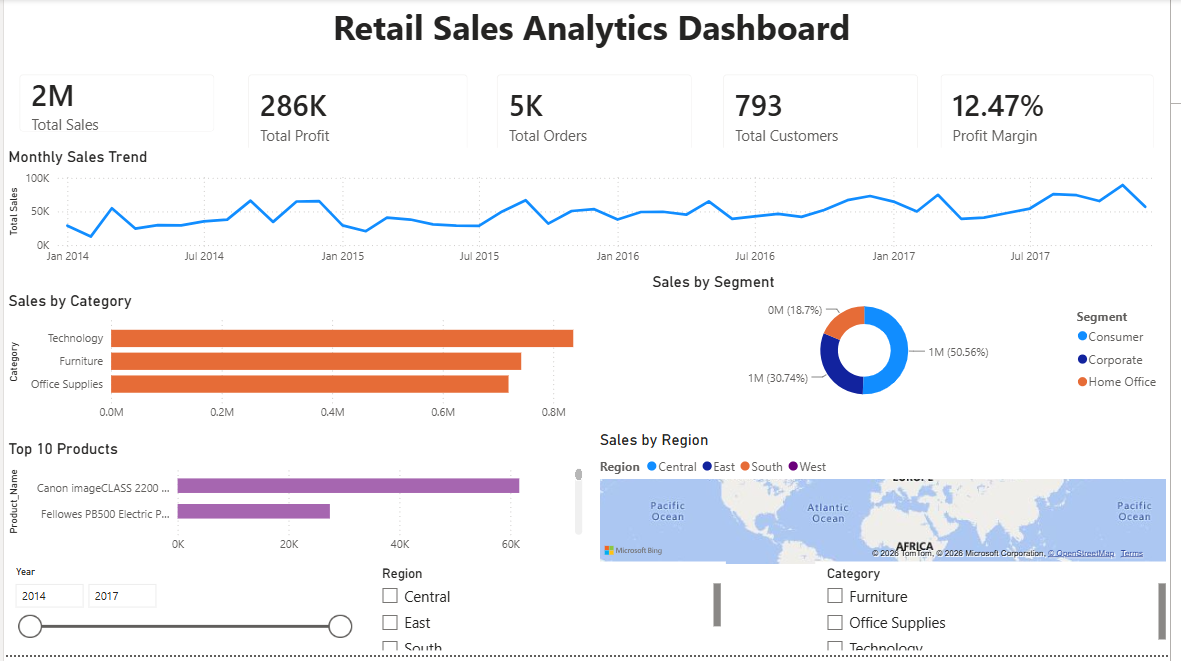

The dashboard page shown, as its layout file describes it:
{"tool":"powerbi","page":{"name":"Page 2","canvas":[1280,720],"ordinal":1},"visuals":[{"type":"cardVisual","fields":{"Data":["Sheet1.Total Sales"]},"box":[0,65.7,248.6,97.1],"z":0},{"type":"cardVisual","fields":{"Data":["Sheet1.Total Profit"]},"box":[251.4,65.7,275.7,120],"z":1000},{"type":"cardVisual","fields":{"Data":["Sheet1.Total Orders"]},"box":[524.3,65.7,248.6,120],"z":2000},{"type":"cardVisual","fields":{"Data":["Sheet1.Total Customers"]},"box":[772.9,65.7,248.6,120],"z":3000},{"type":"cardVisual","fields":{"Data":["Sheet1.Profit Margin"]},"box":[1011.4,65.7,268.6,120],"z":4000},{"type":"lineChart","title":"Monthly Sales Trend","fields":{"Y":["Sheet1.Total Sales"],"Category":["Sheet1.Order_Date.Variation.Date Hierarchy.Year","Sheet1.Order_Date.Variation.Date Hierarchy.Month"]},"box":[0,162.9,1280,137.1],"z":5000},{"type":"clusteredBarChart","title":"Sales by Category","fields":{"Category":["Sheet1.Category"],"Y":["Sheet1.Total Sales"]},"box":[0,321.4,682.9,151.4],"z":6000},{"type":"donutChart","title":"Sales by Segment","fields":{"Category":["Sheet1.Segment"],"Y":["Sheet1.Total Sales"]},"box":[707.1,300,572.9,151.4],"z":7000},{"type":"filledMap","title":"Sales by Region","fields":{"Series":["Sheet1.Region"]},"box":[648.6,472.9,631.4,151.4],"z":8000},{"type":"clusteredBarChart","title":"Top 10 Products","fields":{"Category":["Sheet1.Product_Name"],"Y":["Sheet1.Total Sales"]},"box":[0,482.9,640,134.3],"z":9000},{"type":"slicer","fields":{"Values":["Sheet1.Year"]},"box":[0,617.1,390,102.9],"z":10000},{"type":"slicer","fields":{"Values":["Sheet1.Region"]},"box":[401.4,617.1,390,102.9],"z":11000},{"type":"slicer","fields":{"Values":["Sheet1.Category"]},"box":[890,617.1,390,102.9],"z":12000},{"type":"textbox","box":[0,0,1280,75.7],"z":13000}]}

Visuals, with their boxes in screenshot pixels (x1, y1, x2, y2), scaled from the page's 1280x720 canvas onto the 1181x661 screenshot:
cardVisual - Sheet1.Total Sales: (left=0, top=60, right=229, bottom=149)
cardVisual - Sheet1.Total Profit: (left=232, top=60, right=486, bottom=170)
cardVisual - Sheet1.Total Orders: (left=484, top=60, right=713, bottom=170)
cardVisual - Sheet1.Total Customers: (left=713, top=60, right=942, bottom=170)
cardVisual - Sheet1.Profit Margin: (left=933, top=60, right=1180, bottom=170)
"Monthly Sales Trend" lineChart: (left=0, top=150, right=1180, bottom=275)
"Sales by Category" clusteredBarChart: (left=0, top=295, right=630, bottom=434)
"Sales by Segment" donutChart: (left=652, top=275, right=1180, bottom=414)
"Sales by Region" filledMap: (left=598, top=434, right=1180, bottom=573)
"Top 10 Products" clusteredBarChart: (left=0, top=443, right=590, bottom=567)
slicer - Sheet1.Year: (left=0, top=567, right=360, bottom=660)
slicer - Sheet1.Region: (left=370, top=567, right=730, bottom=660)
slicer - Sheet1.Category: (left=821, top=567, right=1180, bottom=660)
textbox: (left=0, top=0, right=1180, bottom=69)
